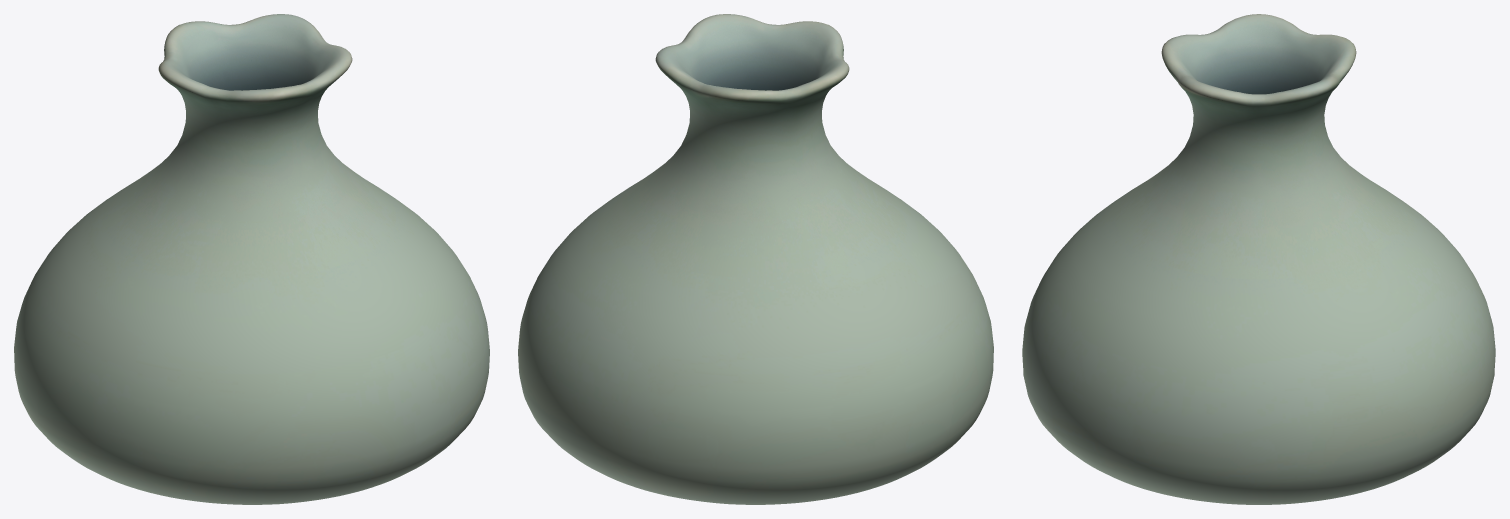
The picture shows the model from 3 angles, left to right: view 1: azimuth 30°, elevation 25°; view 2: azimuth 150°, elevation 25°; view 3: azimuth 270°, elevation 25°; orthographic projection.
Parts seen in each view (by area): view 1: SZB_zl_03; view 2: SZB_zl_03; view 3: SZB_zl_03.
Boxes of the visible parts, x1,y1,x2,y2 form: SZB_zl_03: (14, 14, 489, 504); SZB_zl_03: (518, 14, 993, 504); SZB_zl_03: (1022, 14, 1495, 504).
Bounding box in the file's own units: 0.18 × 0.1596 × 0.18.
1 material, 1 textured.
